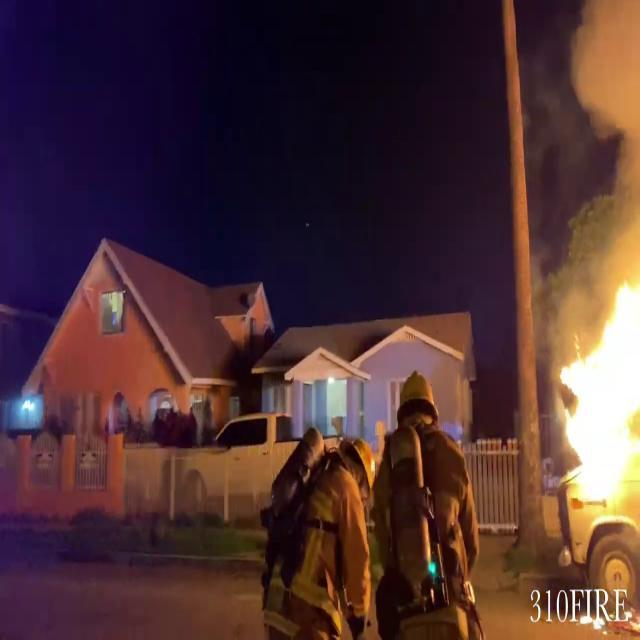Fire: (552, 236, 640, 509)
Smoke: (557, 1, 640, 272)
